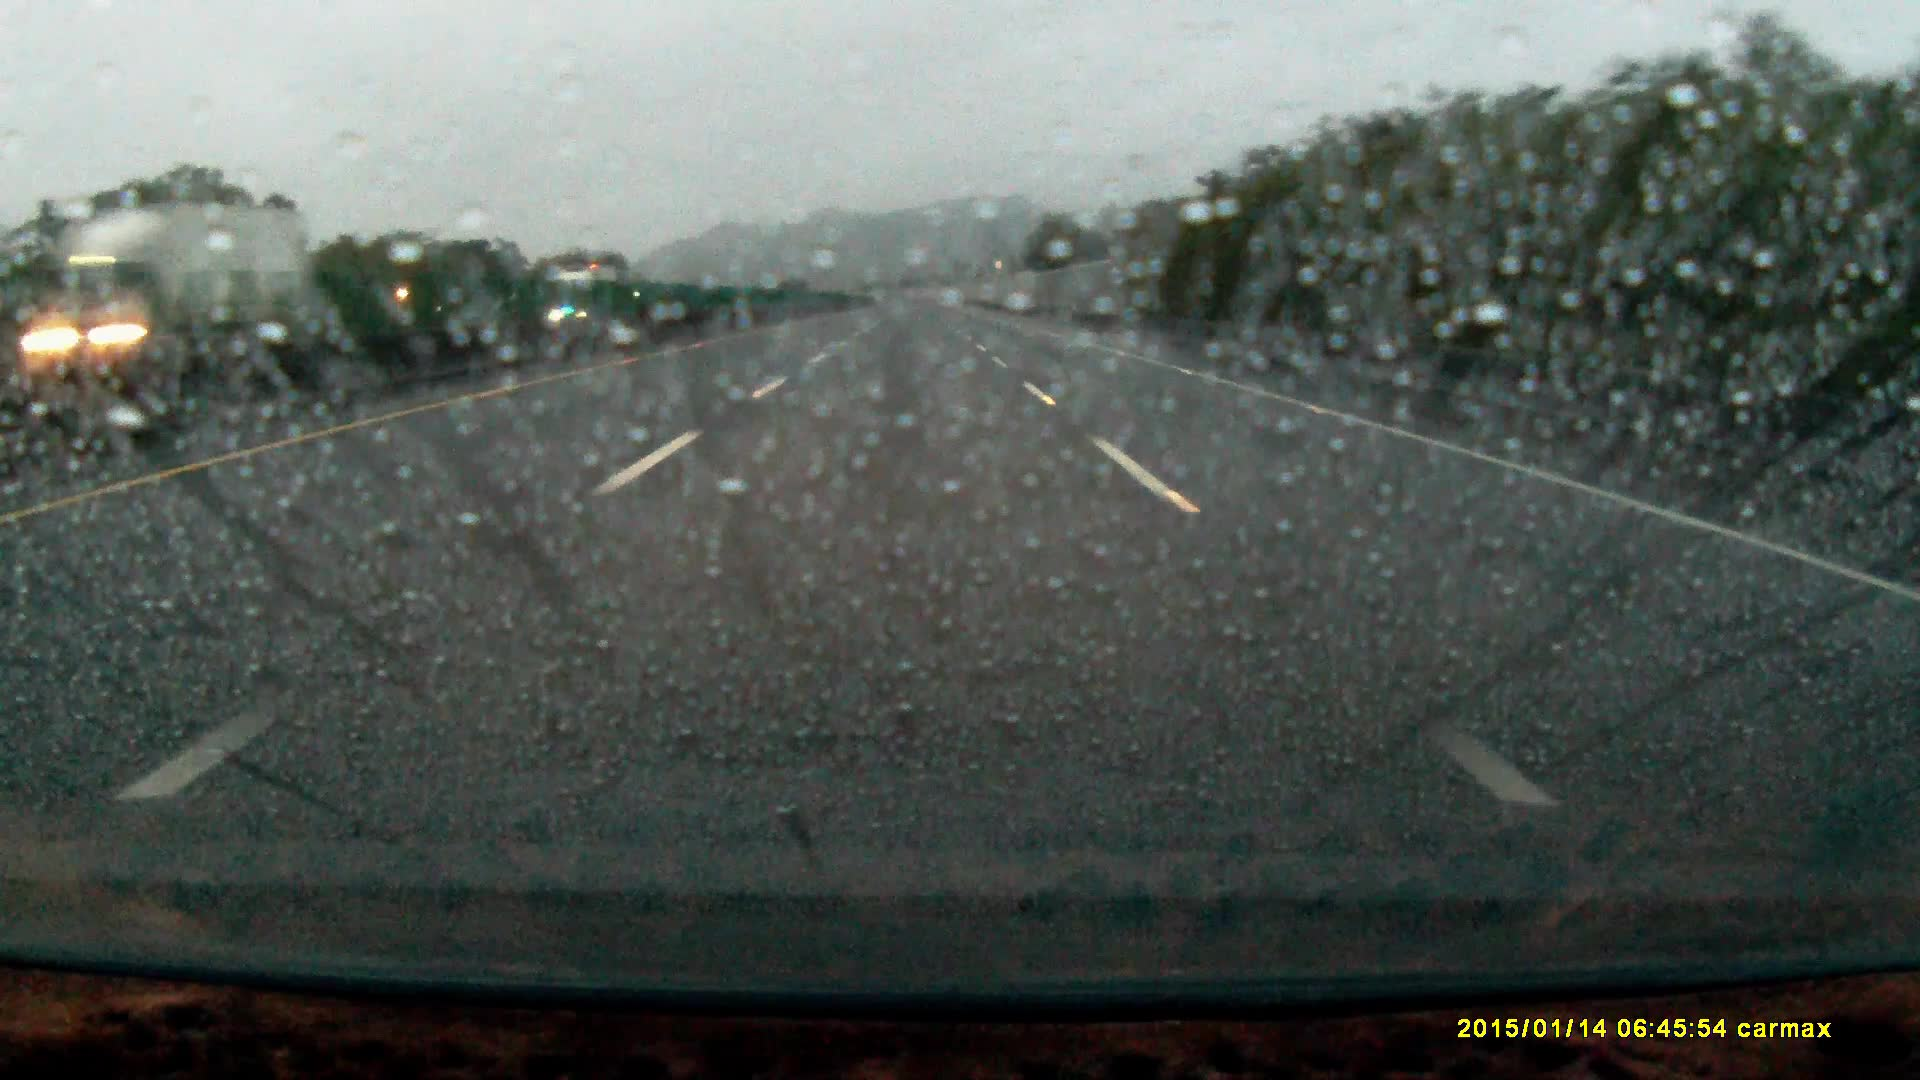vehicle: (38, 200, 287, 386), (551, 266, 622, 326)
